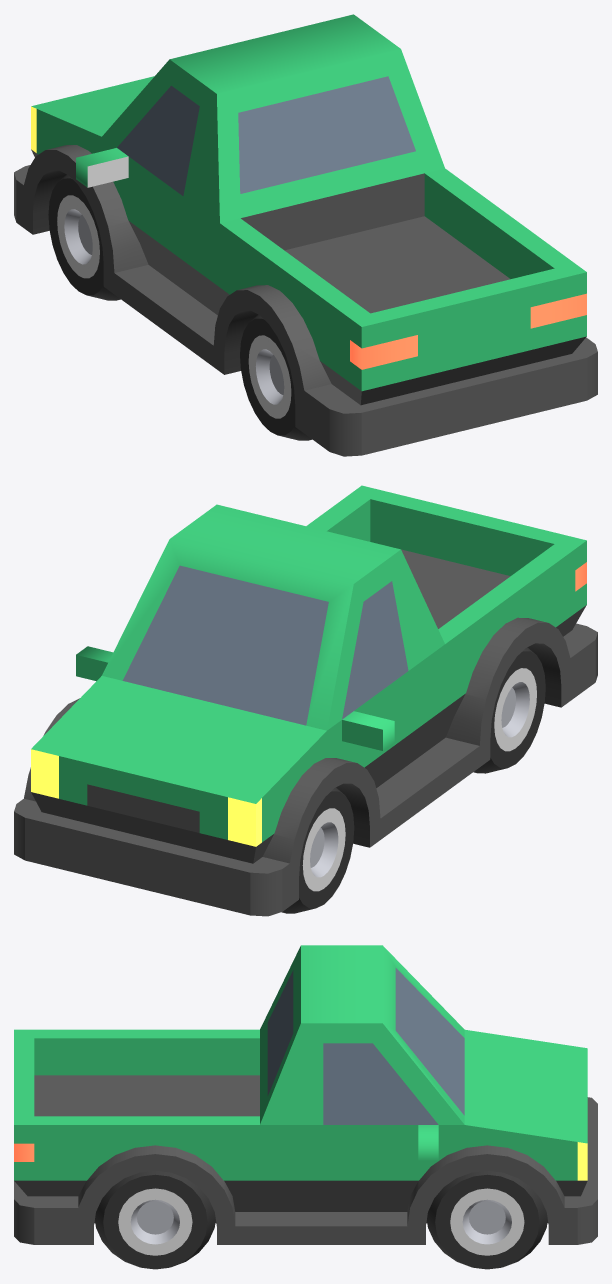
Rendered from truck.glb.
3 renders of one model, top to bottom at view 1: azimuth 30°, elevation 25°; view 2: azimuth 150°, elevation 25°; view 3: azimuth 270°, elevation 25°, orthographic. The views are drawn at different scales.
Visible parts, largest first — view 1: body, wheel_backLeft, wheel_frontLeft; view 2: body, wheel_backLeft, wheel_frontLeft; view 3: body, wheel_frontRight, wheel_backRight.
Boxes of the visible parts, x1=… form: body: x1=14, y1=14, x2=597, y2=456; wheel_backLeft: x1=240, y1=314, x2=311, y2=440; wheel_frontLeft: x1=48, y1=174, x2=120, y2=300; body: x1=14, y1=485, x2=597, y2=916; wheel_backLeft: x1=473, y1=647, x2=545, y2=773; wheel_frontLeft: x1=281, y1=787, x2=354, y2=913; body: x1=14, y1=945, x2=597, y2=1244; wheel_frontRight: x1=427, y1=1170, x2=547, y2=1269; wheel_backRight: x1=95, y1=1170, x2=215, y2=1269.
Size of the model in its own units: 1.5 by 1.3 by 2.85.
